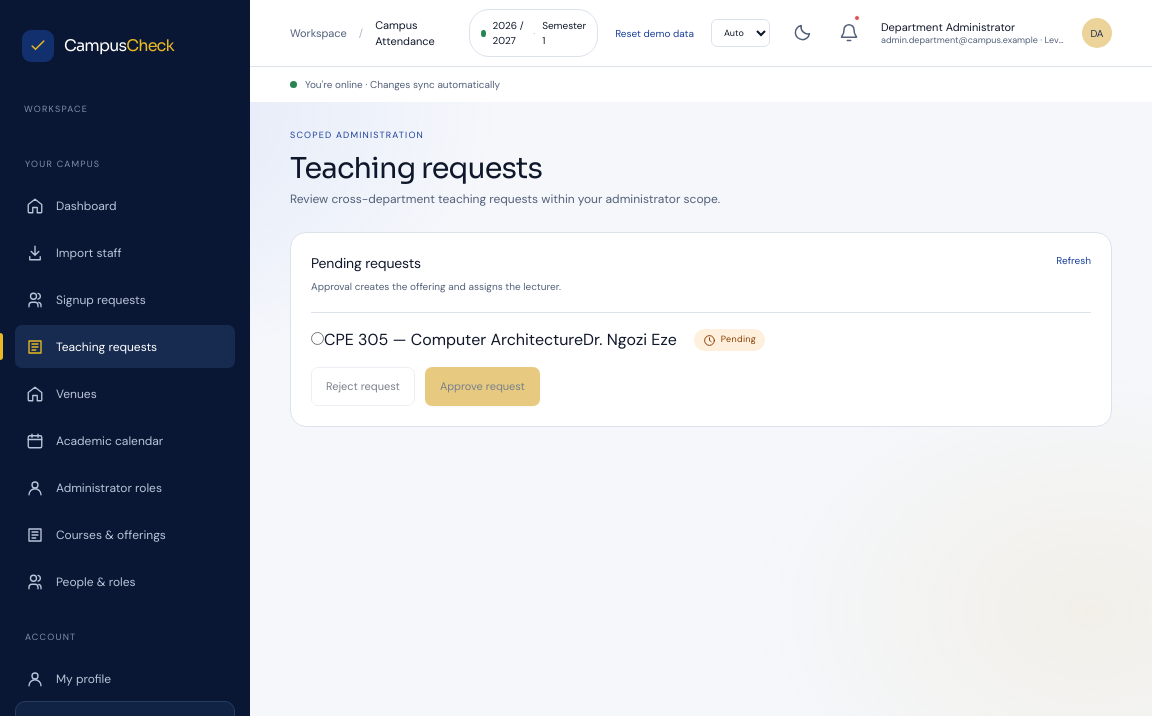
Test: Campus Attendance screens › lists teaching requests and approves one as a scoped admin
Check: the heading "Teaching requests" is shown, box [290, 150, 542, 186]
Check: the text "CPE 305 — Computer Architecture" is shown, box [324, 329, 583, 350]
What coordinates should you click on to do the following:
click the radio button
I would click on:
 (318, 339)
Its box is [311, 332, 324, 345].
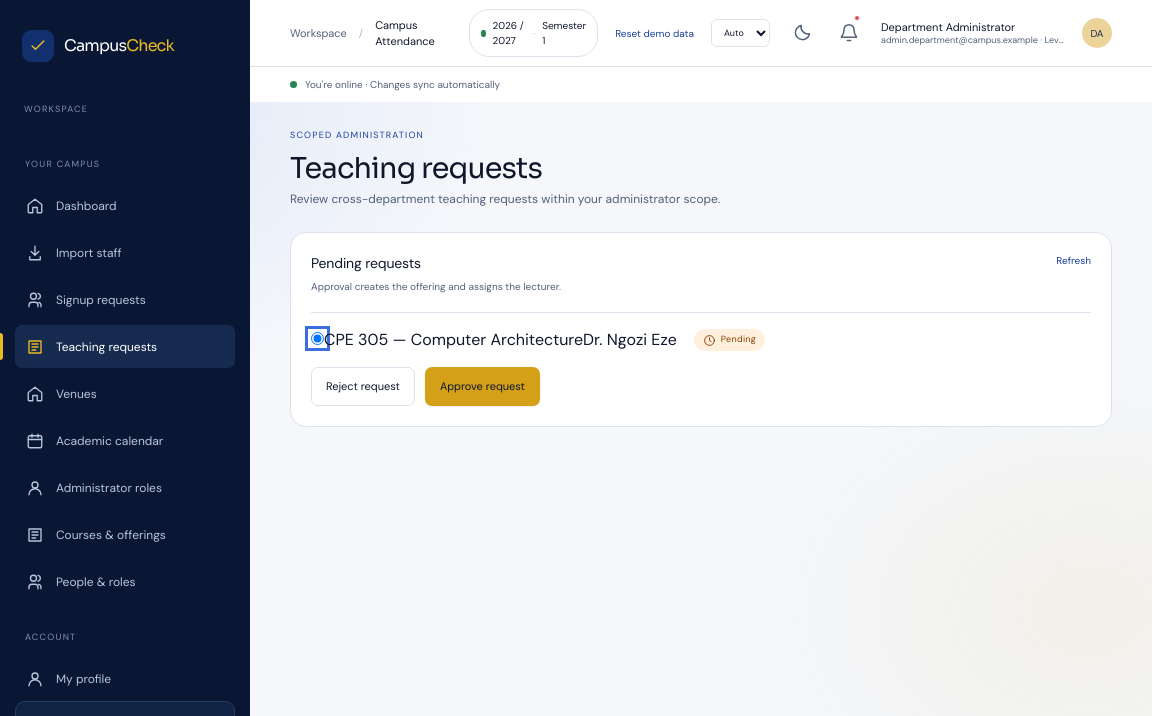
What coordinates should you click on to do the following:
click the button "Approve request"
I would click on:
 (482, 387)
Its box is [425, 367, 540, 406].
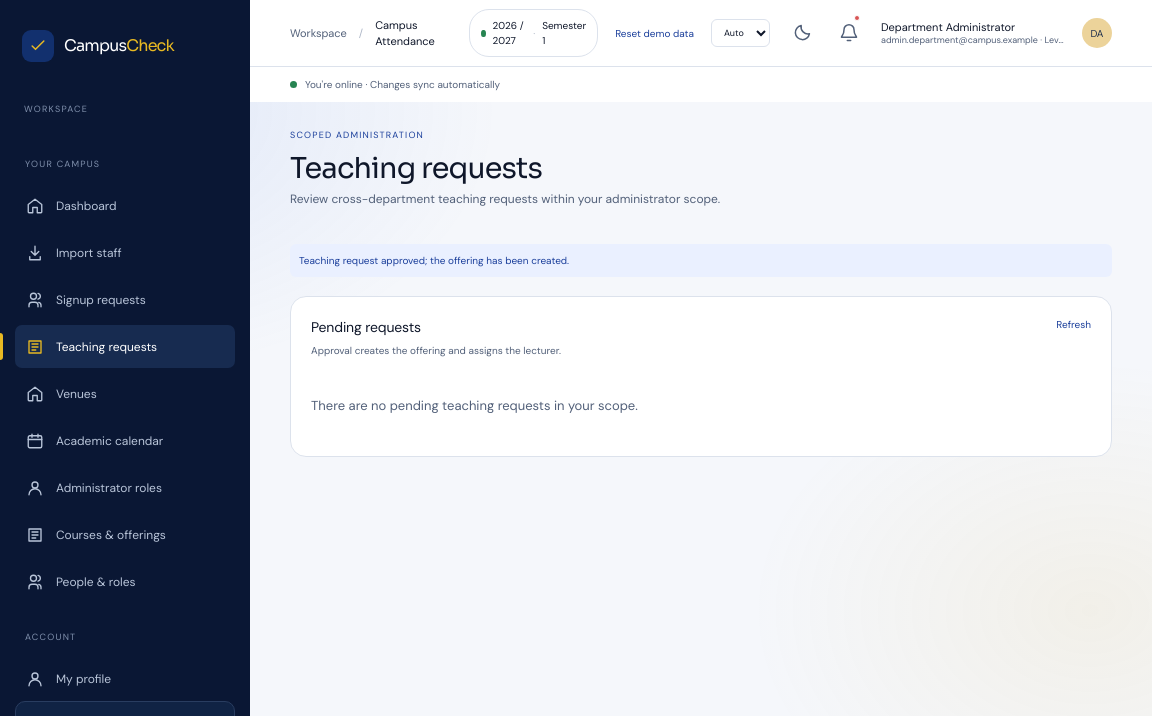
Check: the text "Teaching request approved; the offering has been created." is shown, box [290, 244, 1112, 277]
Check: the text "There are no pending teaching requests in your scope." is shown, box [311, 397, 638, 414]
